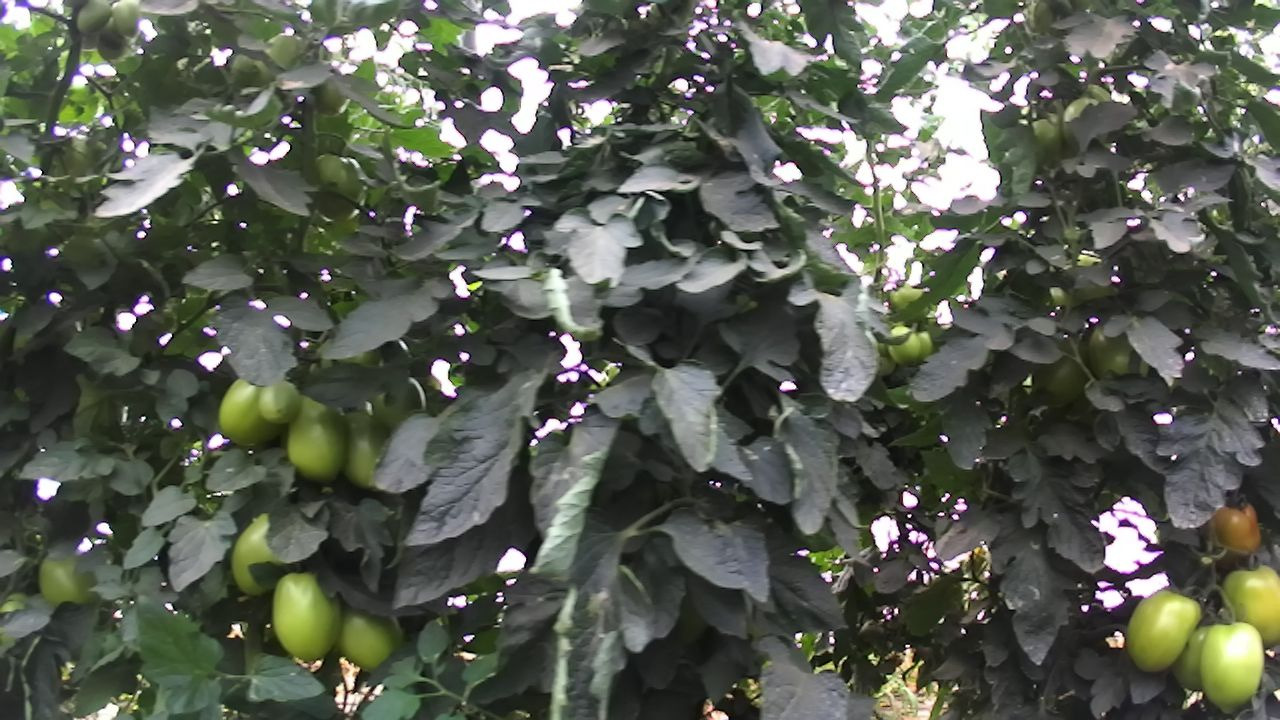tomato: (269, 569, 347, 663), (1124, 588, 1204, 675), (1202, 617, 1269, 716), (285, 387, 352, 485), (229, 504, 290, 598), (1222, 561, 1280, 650), (335, 605, 407, 674), (217, 375, 284, 449), (1207, 496, 1263, 556), (260, 376, 304, 427)
